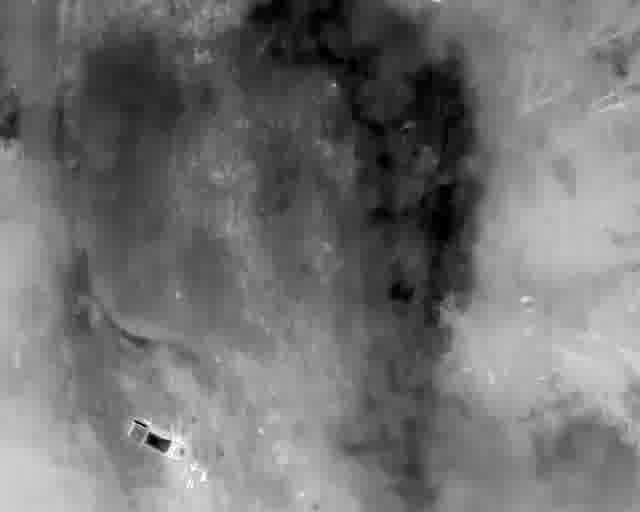car: (125, 416, 188, 463)
person: (183, 477, 196, 489), (199, 470, 209, 485), (181, 465, 190, 476), (189, 462, 198, 473)
